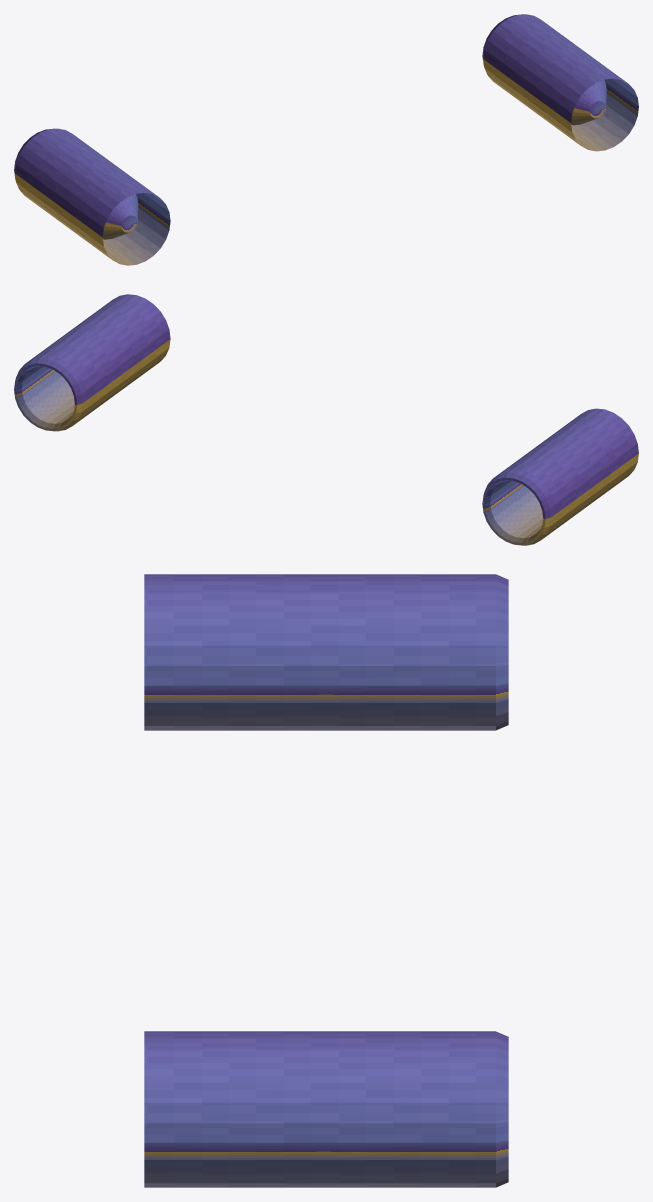
File: exhaust_burnt.obj
3 views of the same model, one above another, from view 1: azimuth 30°, elevation 25°; view 2: azimuth 150°, elevation 25°; view 3: azimuth 270°, elevation 25° (orthographic). The views are drawn at different scales.
Bounding box in the file's own units: 0.916 × 0.116 × 0.2693.
Materials: 1 (1 with a texture image).
